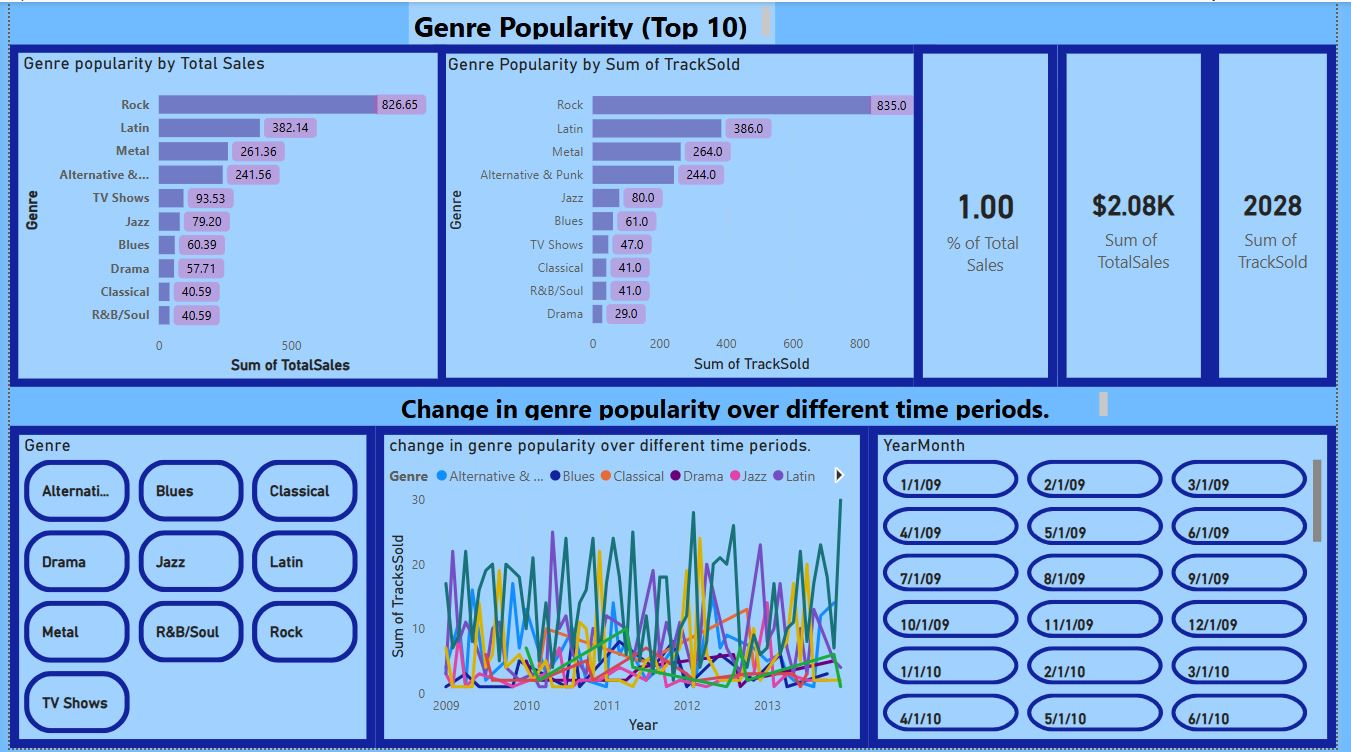

What the dashboard file says about the page in this screenshot:
{"tool":"powerbi","page":{"name":"Page 3","canvas":[1280,720],"ordinal":2},"visuals":[{"type":"textbox","box":[384.9,0,353.5,41],"z":0},{"type":"clusteredBarChart","title":"Genre Popularity by Sum of TrackSold ","fields":{"Category":["genres_popularity1.Genre"],"Y":["Sum(genres_popularity1.TrackSold)"]},"box":[305.2,60.3,282.3,300.4],"z":1000},{"type":"clusteredBarChart","title":"Genre popularity by  Total Sales ","fields":{"Y":["Sum(genres_popularity1.TotalSales)"],"Category":["genres_popularity1.Genre"]},"box":[12.3,59,279.9,300.5],"z":2000},{"type":"lineChart","title":"change in genre  popularity over different time periods. ","fields":{"Series":["genre_trendss.Genre"],"Category":["genre_trendss.YearMonth.Variation.Date Hierarchy.Year","genre_trendss.YearMonth.Variation.Date Hierarchy.Quarter","genre_trendss.YearMonth.Variation.Date Hierarchy.Month","genre_trendss.YearMonth.Variation.Date Hierarchy.Day"],"Y":["Sum(genre_trendss.TracksSold)"]},"box":[304.6,419.9,455.6,300.5],"z":3000},{"type":"card","fields":{"Values":["Sum(genres_popularity1.TotalSales)"]},"box":[769.7,61.5,206.3,299.2],"z":4000},{"type":"advancedSlicerVisual","fields":{"Values":["genre_trendss.YearMonth"]},"box":[769.8,419.9,463.8,300.5],"z":5000},{"type":"advancedSlicerVisual","fields":{"Values":["genre_trendss.Genre"]},"box":[24.7,419.9,267.6,300.5],"z":6000},{"type":"card","fields":{"Values":["genres_popularity1.% of Total Sales"]},"box":[597.2,60.3,162.9,300.4],"z":7000},{"type":"card","fields":{"Values":["Sum(genres_popularity1.TrackSold)"]},"box":[991.7,61.5,241.3,299.2],"z":8000},{"type":"textbox","box":[330.7,371.9,734.1,37],"z":9000}]}

Visuals, with their boxes in screenshot pixels (x1, y1, x2, y2), scaled from the page's 1280x720 canvas onto the 1351x752 screenshot:
textbox: left=406, top=0, right=779, bottom=43
"Genre Popularity by Sum of TrackSold " clusteredBarChart: left=322, top=63, right=620, bottom=377
"Genre popularity by  Total Sales " clusteredBarChart: left=13, top=62, right=308, bottom=375
"change in genre  popularity over different time periods. " lineChart: left=321, top=439, right=802, bottom=751
card - Sum(genres_popularity1.TotalSales): left=812, top=64, right=1030, bottom=377
advancedSlicerVisual - genre_trendss.YearMonth: left=812, top=439, right=1302, bottom=751
advancedSlicerVisual - genre_trendss.Genre: left=26, top=439, right=309, bottom=751
card - genres_popularity1.% of Total Sales: left=630, top=63, right=802, bottom=377
card - Sum(genres_popularity1.TrackSold): left=1047, top=64, right=1301, bottom=377
textbox: left=349, top=388, right=1124, bottom=427
